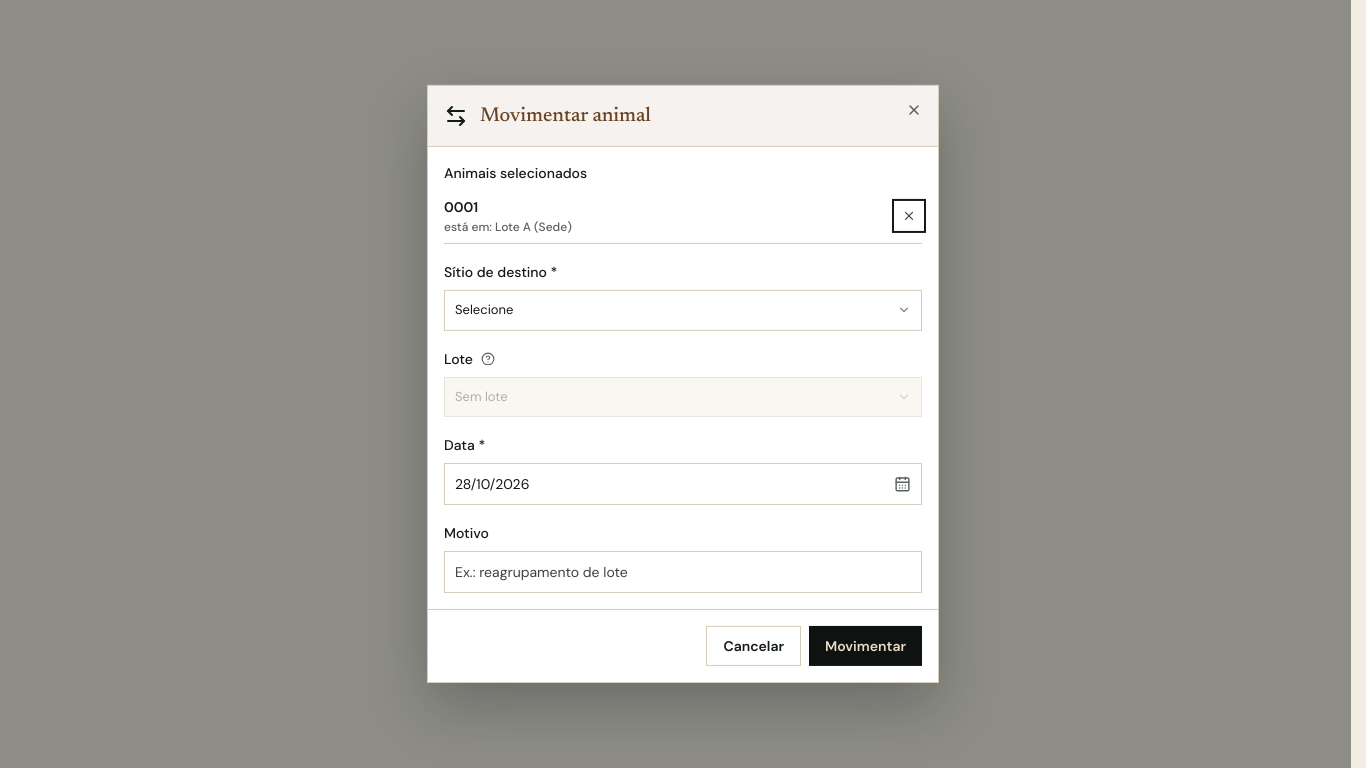
Test: FormMovimentar › lista vazia desabilita o botão Movimentar e mostra um aviso
Click the button named "Tirar 0001".
click(909, 216)  # box [896,203,922,229]
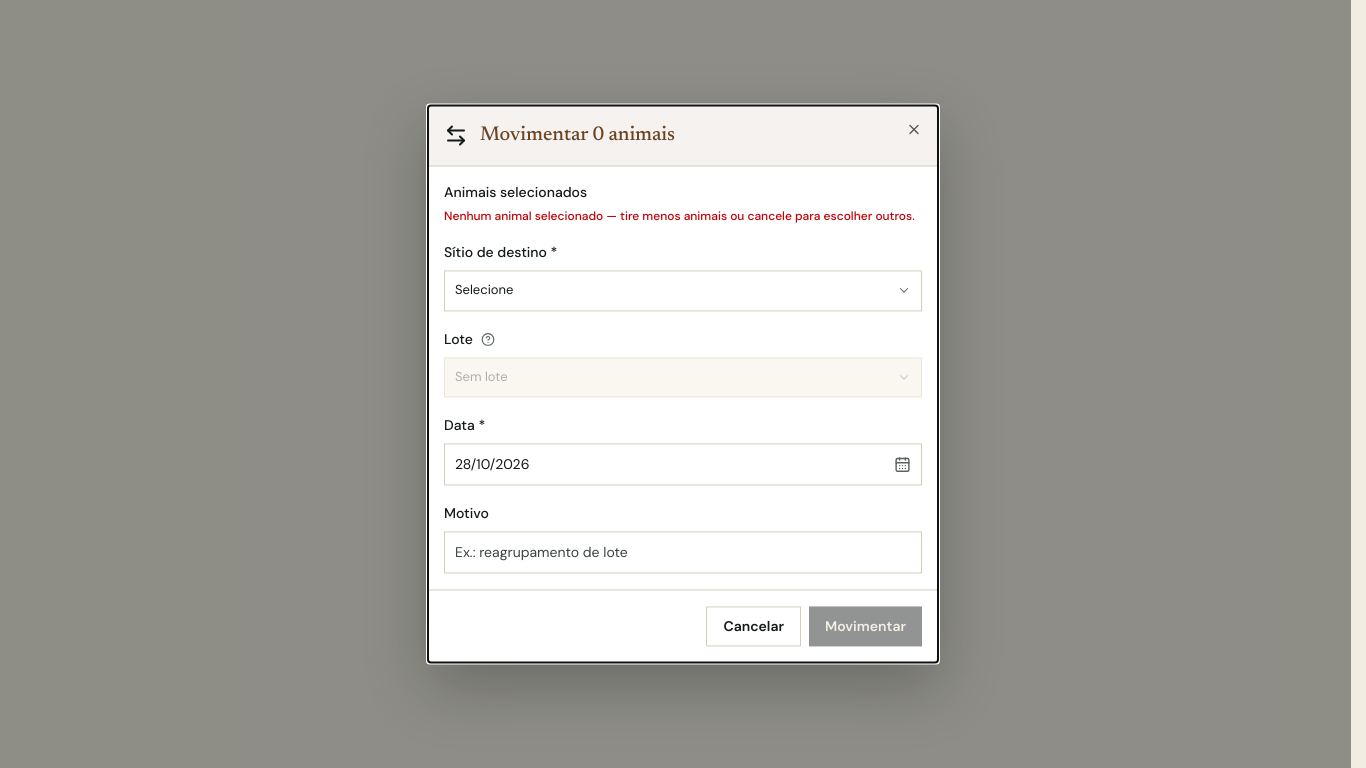
Check: the button "Movimentar" is disabled, box [809,607,922,647]
Check: the text "Nenhum animal selecionado" is shown, box [444,208,915,224]
